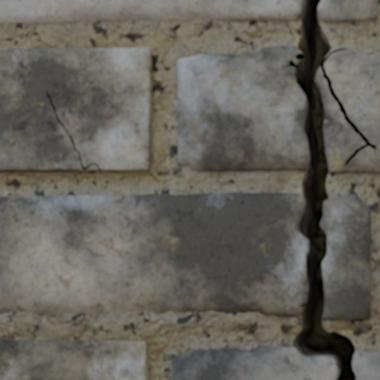brick: (0, 48, 151, 171), (0, 340, 147, 379), (87, 166, 97, 170)
broken_brick: (0, 192, 307, 317), (176, 45, 306, 171), (316, 48, 379, 173), (0, 0, 300, 23), (322, 195, 371, 320), (171, 345, 336, 379), (318, 0, 378, 23), (354, 351, 379, 379)
crack: (284, 0, 377, 379), (45, 90, 101, 171), (260, 311, 267, 314)
